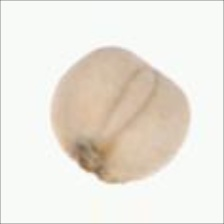L5: (95, 66, 163, 149), (67, 134, 114, 180)
L6: (42, 44, 194, 188)
